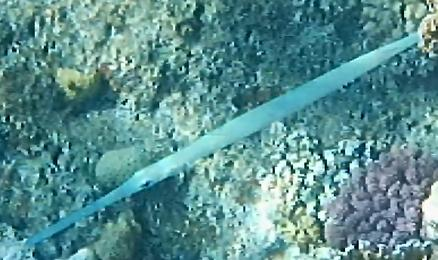Fistularia commersonii: (0, 57, 363, 260)
